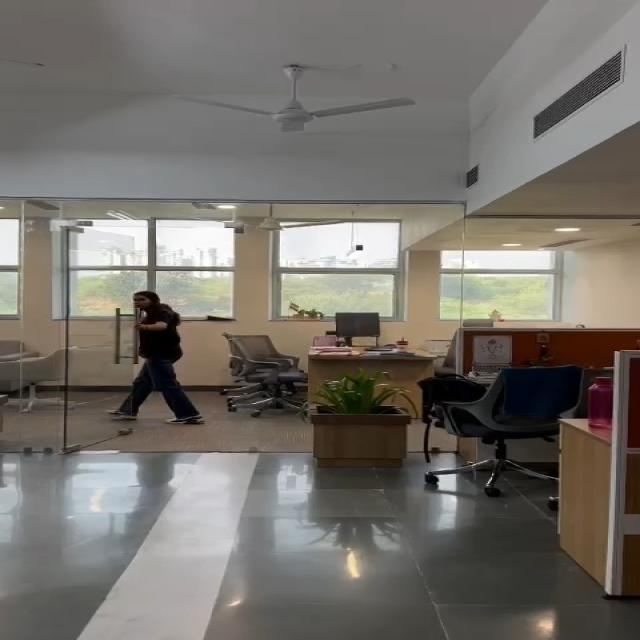door: (0, 175, 640, 285)
floor: (16, 466, 551, 640)
furniture: (454, 353, 581, 488), (294, 366, 413, 480), (225, 322, 304, 421), (304, 296, 406, 360), (0, 334, 74, 407)
moving_object: (119, 288, 206, 424)
